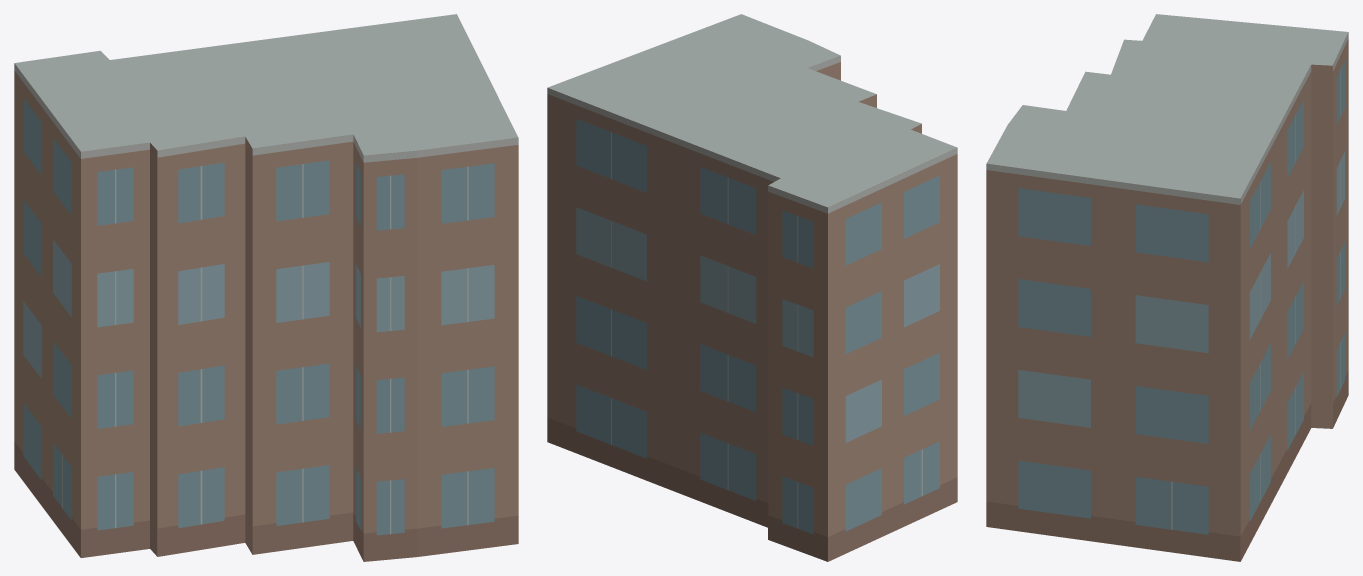
File: survey-upis-33019584.glb
3 renders of one model, left to right at view 1: azimuth 30°, elevation 25°; view 2: azimuth 150°, elevation 25°; view 3: azimuth 270°, elevation 25°, orthographic. The views are drawn at different scales.
Parts seen in each view (by area): view 1: survey-upis-33019584.tmp; view 2: survey-upis-33019584.tmp; view 3: survey-upis-33019584.tmp.
Boxes of the visible parts, box(x1,y1,x2,y2) form: survey-upis-33019584.tmp: box(14, 14, 518, 561); survey-upis-33019584.tmp: box(547, 14, 957, 561); survey-upis-33019584.tmp: box(986, 14, 1348, 561).
Size of the model in its own units: 15.16 by 13.9 by 12.57.
